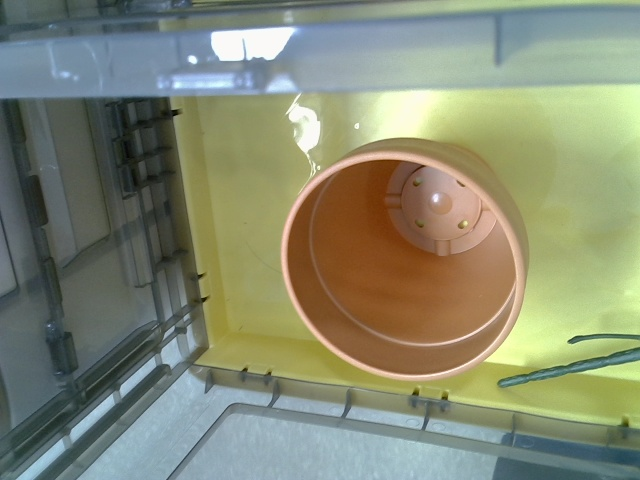화분: (279, 136, 528, 384)
